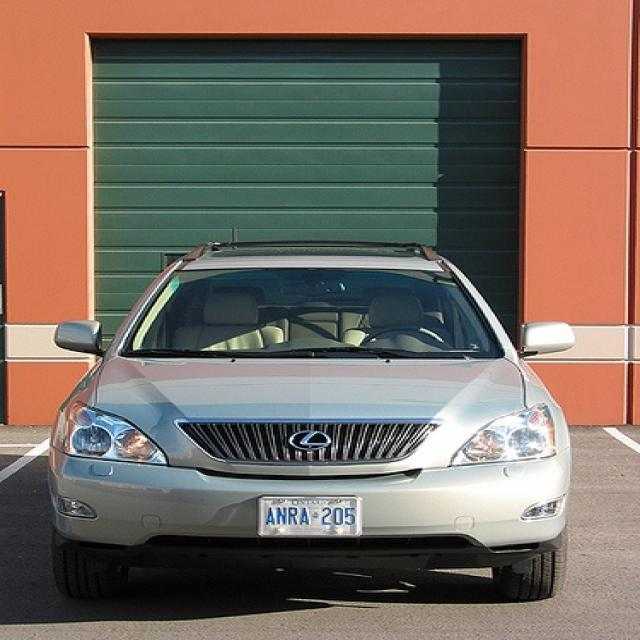car: (42, 240, 578, 606)
